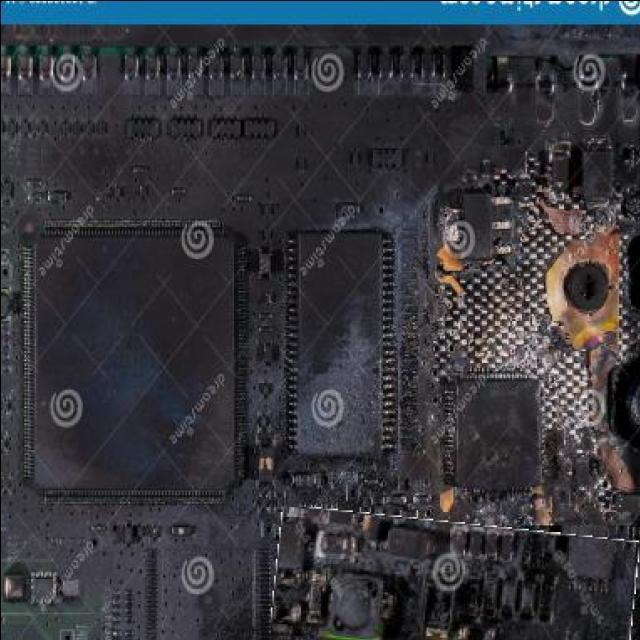Burn: (270, 513, 635, 640)
